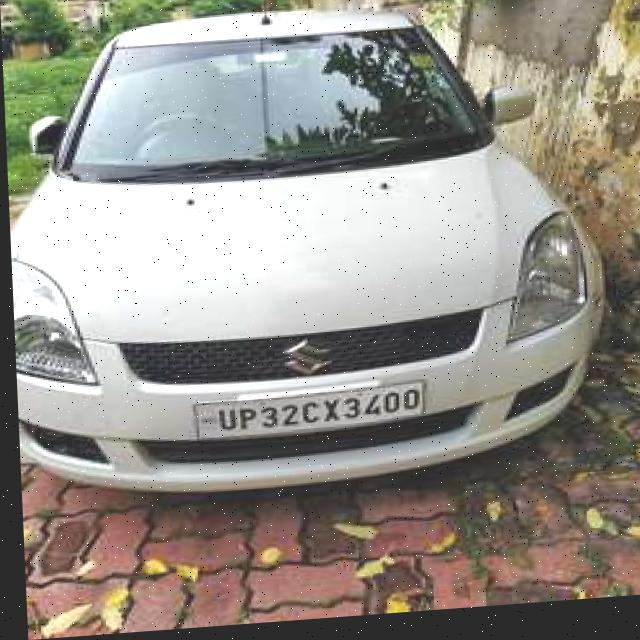plate: (190, 388, 423, 446)
